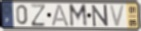0: (16, 4, 30, 26)
A: (51, 4, 71, 28)
M: (68, 4, 89, 28)
N: (91, 4, 109, 28)
V: (108, 4, 126, 28)
Z: (30, 4, 47, 28)
